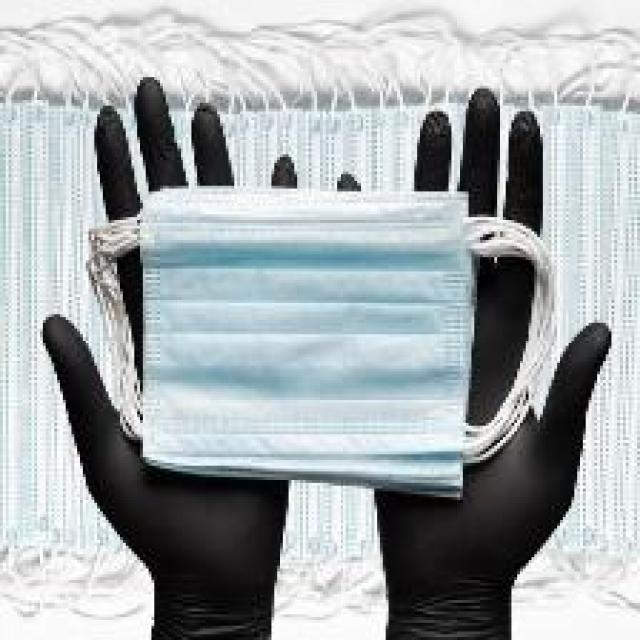Mask: (103, 170, 578, 538)
